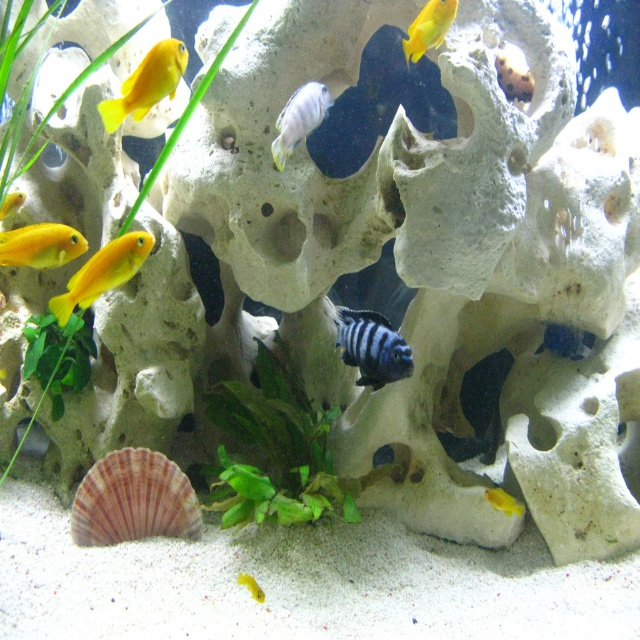Fish: (49, 232, 158, 330), (97, 38, 188, 136), (337, 309, 419, 391), (274, 83, 330, 173), (0, 220, 86, 269), (401, 0, 457, 67), (484, 487, 522, 517), (234, 569, 263, 604), (0, 193, 28, 223)
